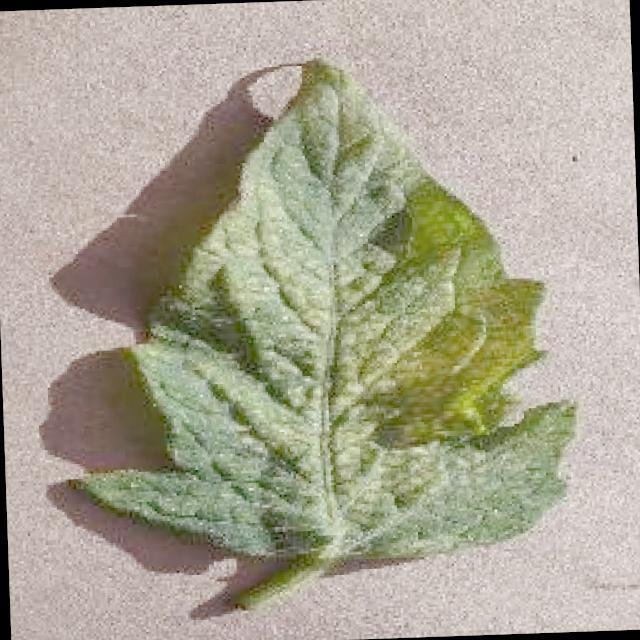Tomato spider mites leaf: (66, 46, 585, 574)
